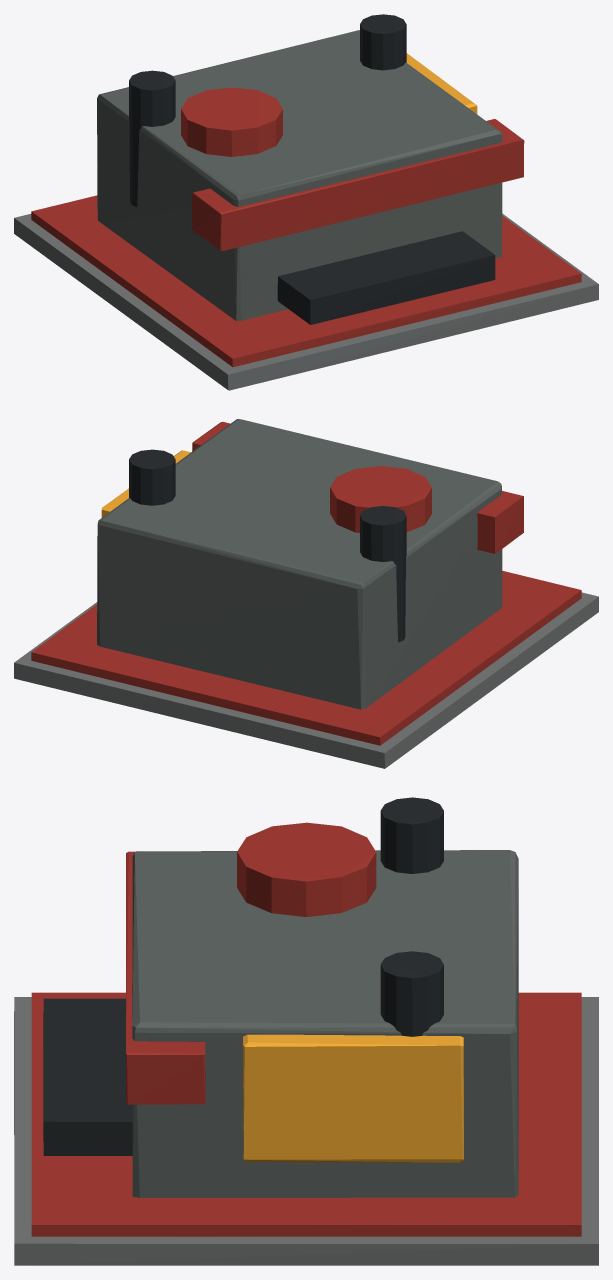
The model's file is SM_Soviet_SU_Refinery_LOD2.fbx.
The picture shows the model from 3 angles, top to bottom: view 1: azimuth 30°, elevation 25°; view 2: azimuth 150°, elevation 25°; view 3: azimuth 270°, elevation 25°; orthographic projection. The views are drawn at different scales.
Visible parts, largest first — view 1: LOD02_SM_Soviet_SU_Refinery; view 2: LOD02_SM_Soviet_SU_Refinery; view 3: LOD02_SM_Soviet_SU_Refinery.
Part boxes in pixels (x1,y1,x2,y2): LOD02_SM_Soviet_SU_Refinery: (14, 14, 598, 390); LOD02_SM_Soviet_SU_Refinery: (14, 419, 598, 768); LOD02_SM_Soviet_SU_Refinery: (14, 797, 598, 1265).
Bounding box in the file's own units: 797 × 797 × 383.
